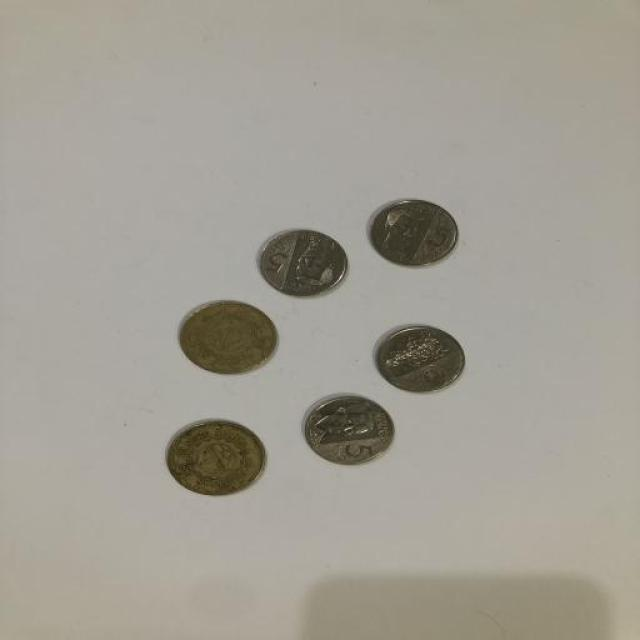5 peso: (364, 188, 463, 274), (302, 393, 396, 466), (373, 323, 466, 393), (257, 227, 348, 298)
5 peso-old: (165, 419, 266, 497), (176, 299, 278, 376)
